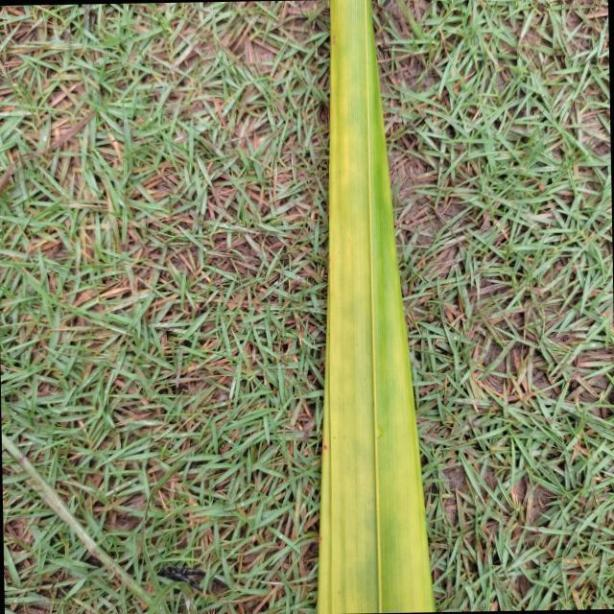nitrogen: (315, 0, 433, 614)
